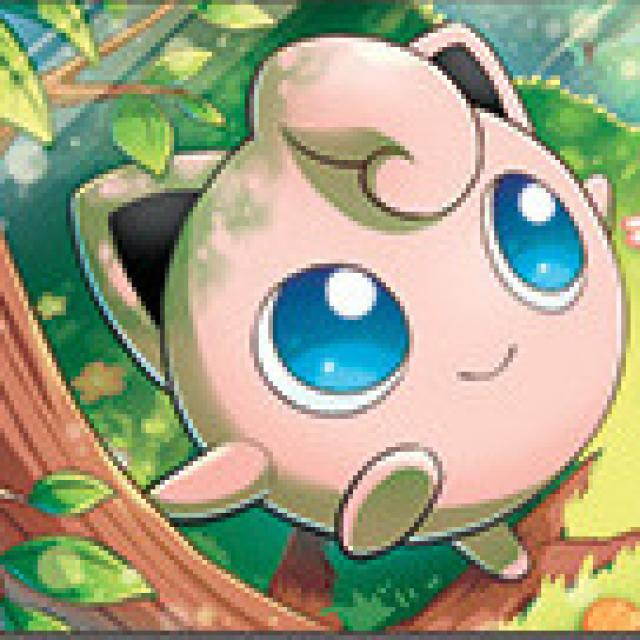Jigglypuff: (167, 30, 624, 527)
